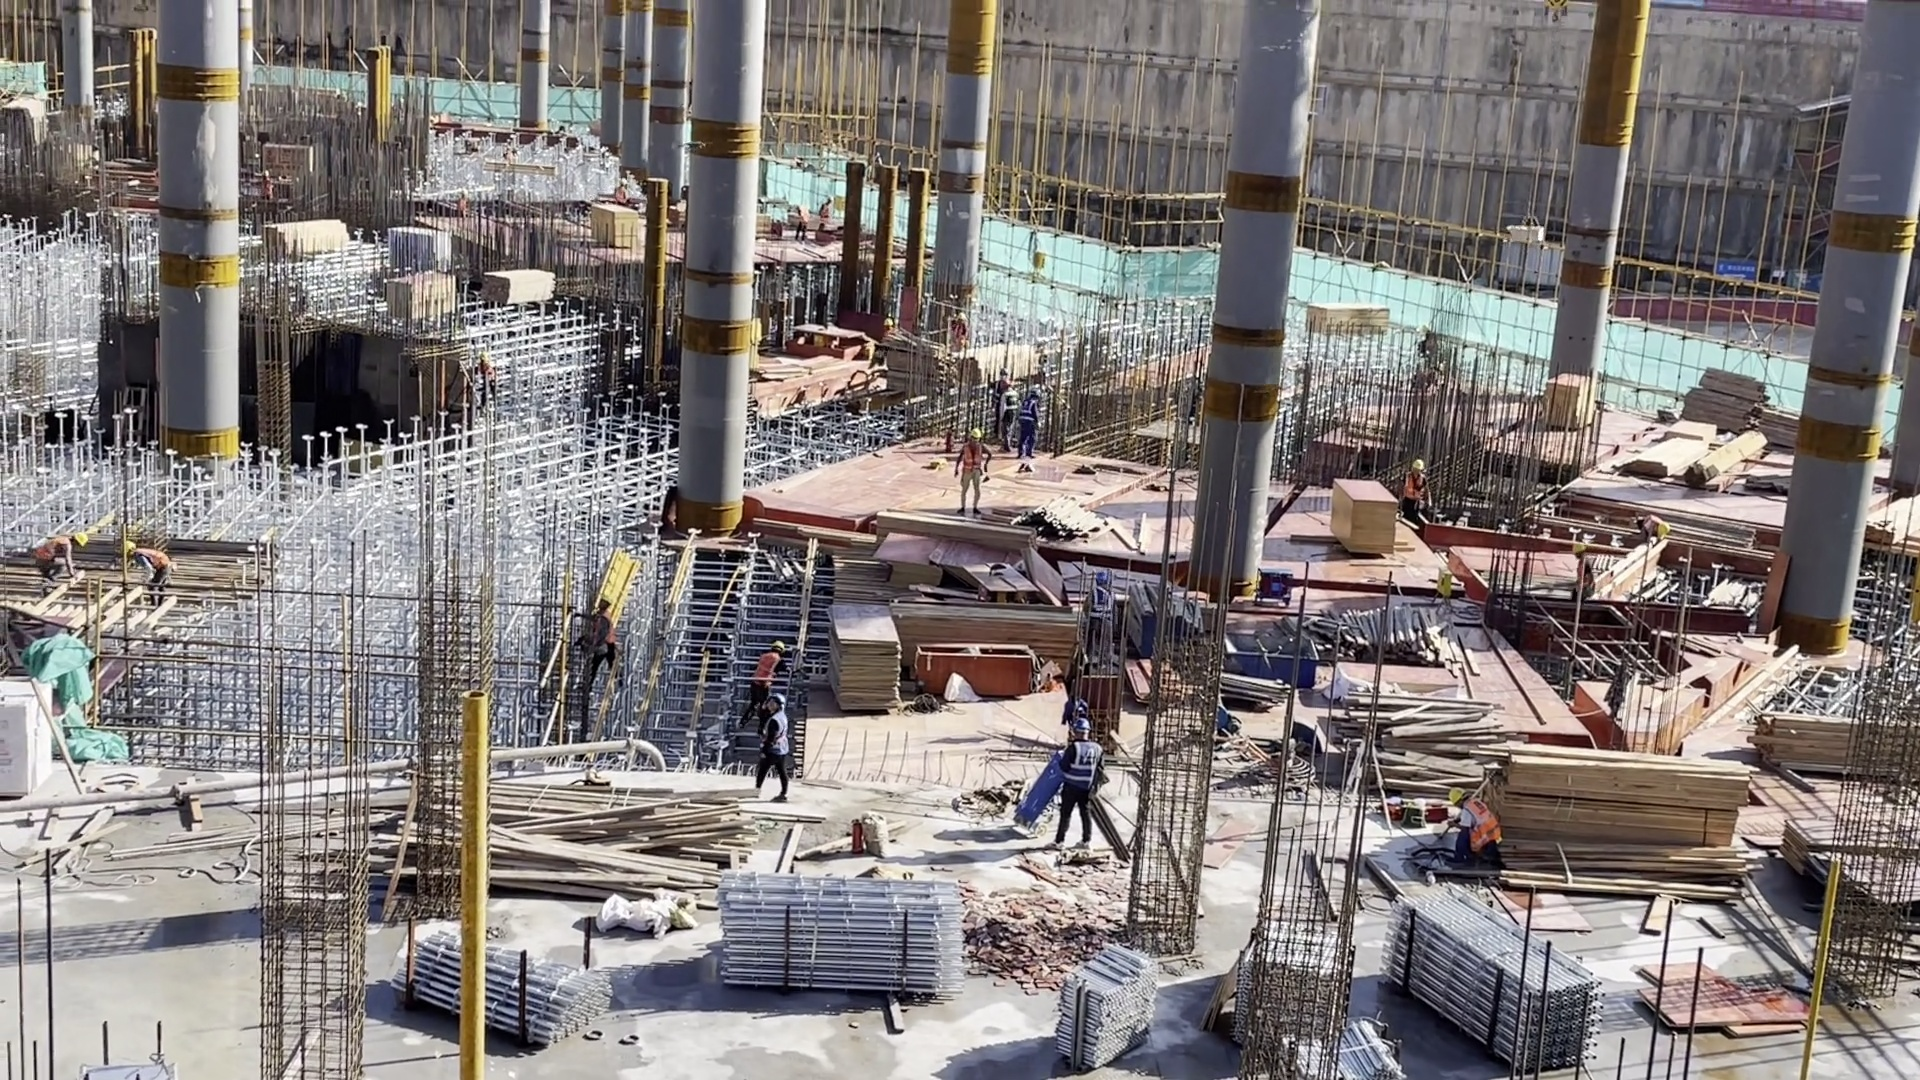board: (1627, 951, 1822, 1057), (825, 606, 905, 724), (1325, 472, 1396, 552), (380, 268, 465, 332), (881, 541, 943, 608), (588, 197, 638, 251), (1550, 371, 1594, 430)
cutter: (783, 318, 877, 374), (964, 556, 1049, 616)
ebox: (1434, 565, 1453, 609), (1029, 246, 1048, 282)
helmet: (1071, 716, 1091, 734), (1449, 789, 1466, 809), (766, 695, 785, 712), (1093, 571, 1112, 588), (1572, 541, 1587, 557), (74, 532, 88, 546), (121, 541, 135, 556), (1656, 520, 1668, 537), (770, 640, 783, 653), (998, 379, 1010, 391), (967, 428, 981, 439), (601, 593, 616, 604), (1412, 460, 1425, 471)
hopper: (1218, 630, 1319, 693)
person: (1045, 712, 1102, 853), (1440, 777, 1505, 880), (578, 591, 619, 688), (759, 691, 796, 798), (121, 541, 179, 604), (1080, 569, 1114, 664), (32, 528, 89, 585), (956, 431, 992, 511), (746, 640, 784, 701), (1401, 456, 1429, 529), (1018, 387, 1045, 463), (996, 384, 1023, 453), (1570, 540, 1595, 601), (923, 282, 946, 325), (1641, 513, 1670, 545), (987, 368, 1011, 404), (795, 202, 814, 245), (813, 194, 832, 238)
scaffold: (1382, 882, 1600, 1080), (719, 866, 964, 1001), (388, 927, 619, 1046), (1208, 915, 1338, 1050), (1049, 948, 1159, 1080), (1284, 997, 1414, 1080), (76, 1051, 185, 1080)
vest: (1463, 801, 1499, 855), (1067, 739, 1097, 799), (764, 713, 791, 757), (34, 539, 72, 569), (134, 547, 170, 573), (592, 608, 613, 650), (754, 652, 779, 685), (1087, 588, 1111, 619), (965, 442, 984, 473), (1405, 471, 1424, 500), (1578, 561, 1594, 589), (1020, 397, 1037, 424)
wood: (1489, 740, 1757, 898), (482, 784, 749, 904), (1349, 691, 1513, 805), (900, 592, 1082, 655), (1020, 492, 1169, 550), (1752, 711, 1851, 770), (254, 214, 357, 261), (1297, 296, 1392, 337), (479, 262, 555, 311)
